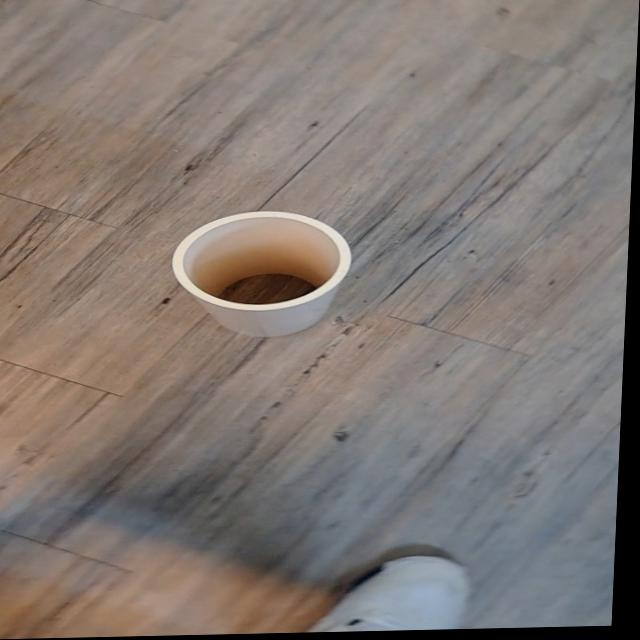CORAL: (133, 197, 386, 355)
